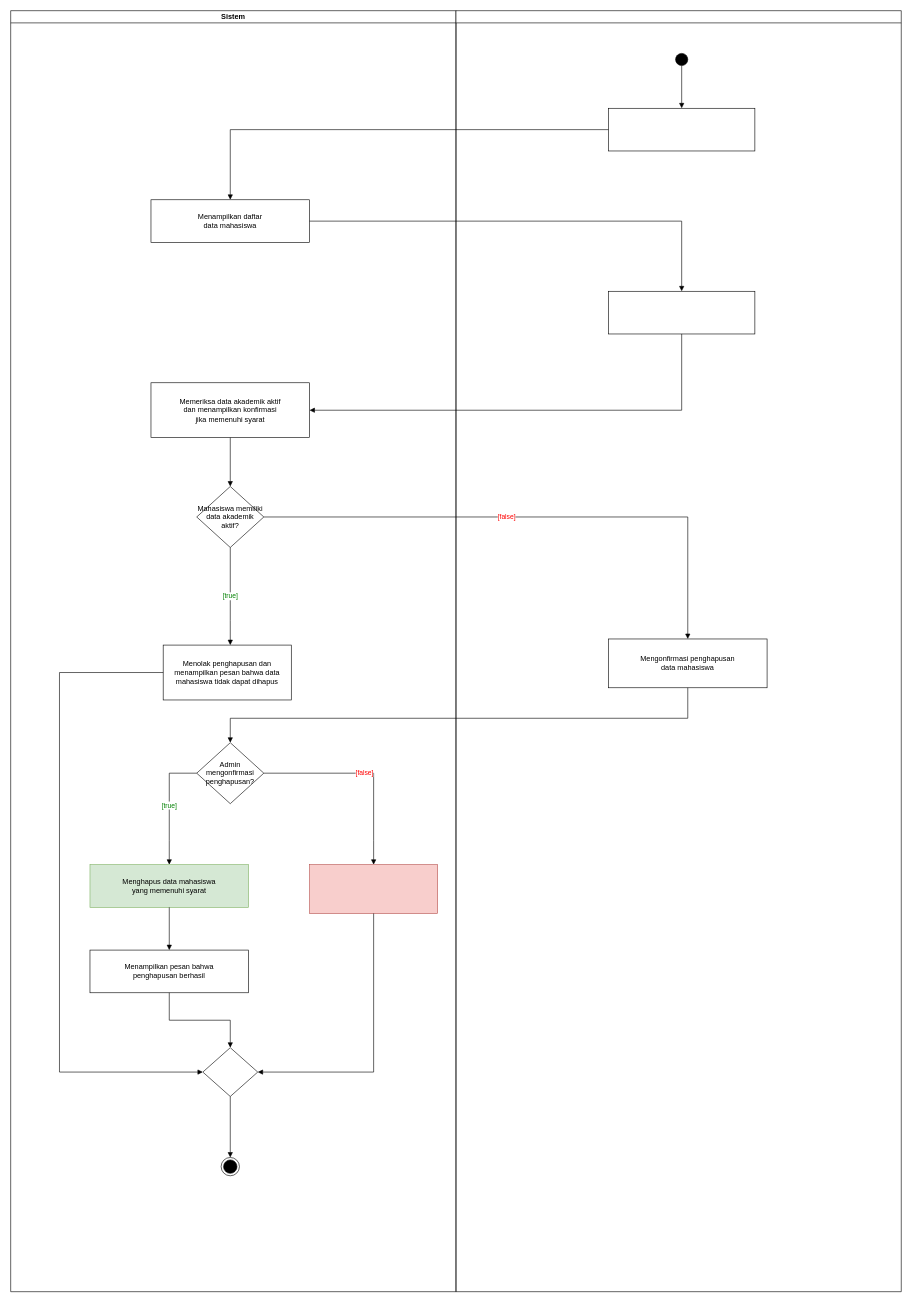
Image size: 912x1302. Some labels were removed from this diagram. The shapes that lost their labels are listed below. From the top down, each one's box as (x1, y1, x2, y2) in pixels, then its label:
(608, 108, 755, 151): Memilih tindakan Hapus Data Mahasiswa
(608, 291, 755, 334): Memilih data mahasiswa yang akan dihapus
(455, 10, 901, 1292): Admin Akademik
(309, 864, 438, 913): Membatalkan proses penghapusan dan mempertahankan data mahasiswa
